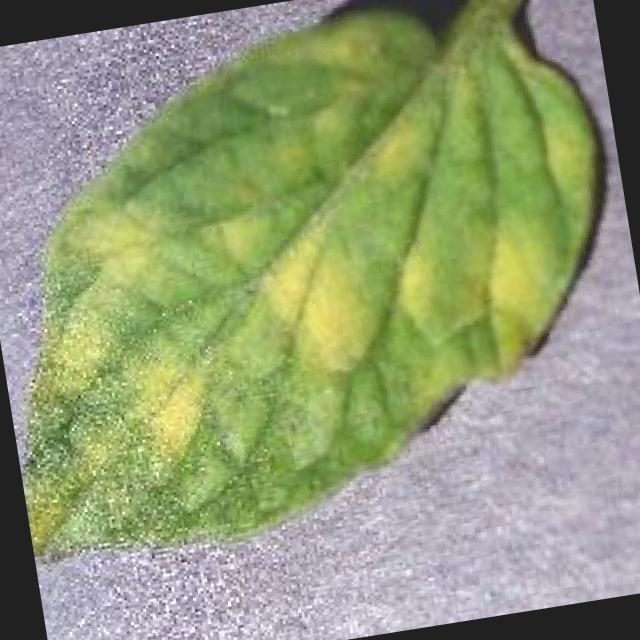leaf mold: (24, 0, 601, 568)
